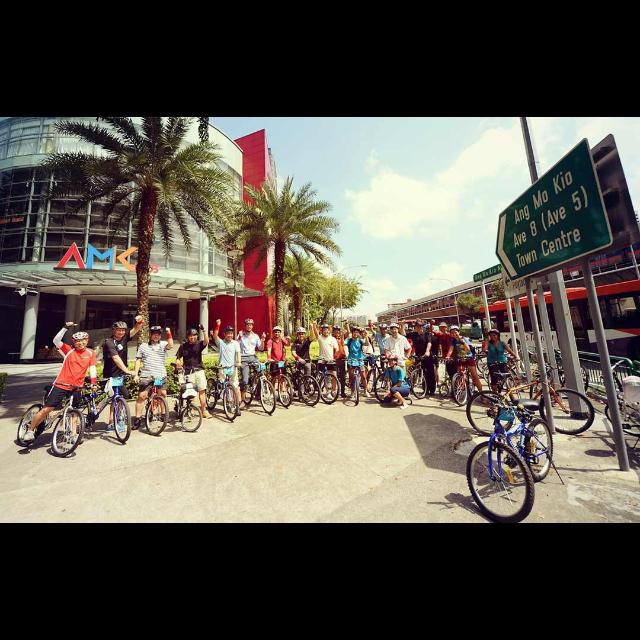head: (72, 332, 90, 350), (149, 328, 163, 344), (114, 325, 126, 339), (187, 330, 199, 344), (223, 328, 234, 342), (450, 327, 462, 339), (490, 328, 500, 342), (388, 356, 398, 368), (298, 327, 306, 341), (390, 326, 400, 336), (414, 323, 424, 333), (246, 320, 254, 332), (439, 324, 448, 334), (333, 327, 341, 338), (352, 328, 360, 339), (273, 328, 281, 338), (322, 327, 330, 337), (380, 326, 388, 336), (360, 329, 368, 338)
person: (18, 320, 102, 448), (80, 314, 146, 434), (128, 325, 174, 433), (174, 323, 213, 421), (444, 324, 488, 406), (234, 318, 270, 412), (211, 318, 243, 418), (400, 317, 438, 398), (480, 328, 520, 404), (429, 318, 463, 399), (312, 318, 342, 402), (340, 325, 374, 399), (368, 317, 402, 388), (383, 322, 413, 400), (324, 317, 352, 398), (347, 321, 379, 391), (290, 320, 316, 404), (266, 326, 292, 406), (377, 353, 411, 411)
